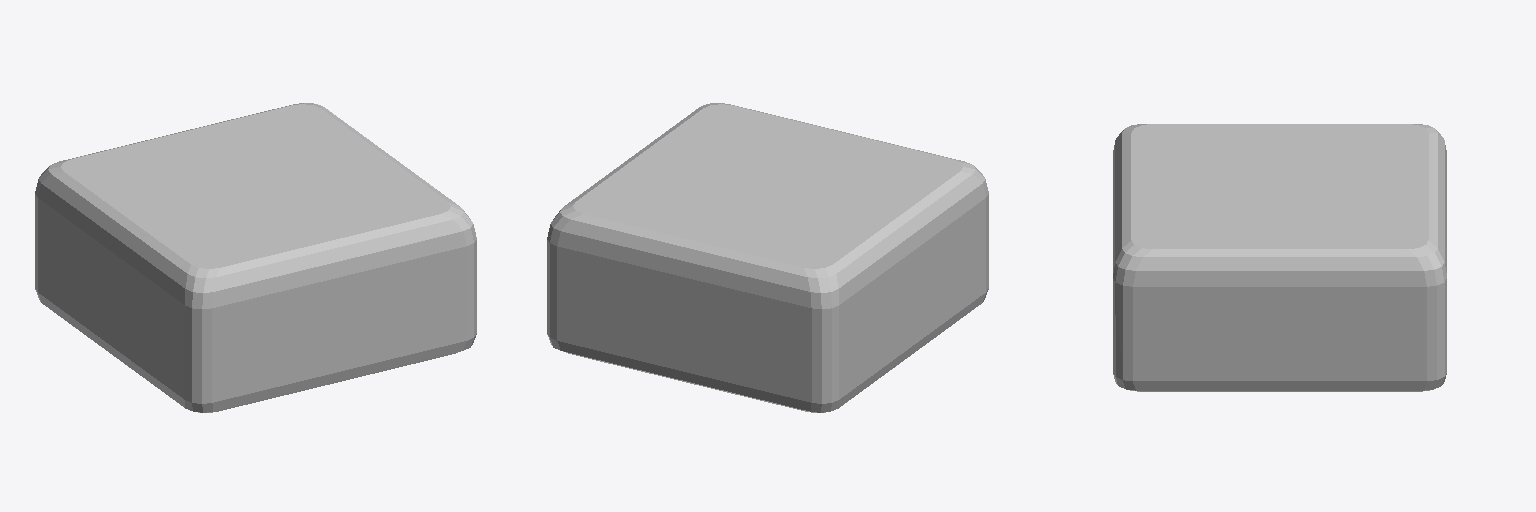
The model's file is tile_short.obj.
The picture shows the model from 3 angles: view 1: azimuth 30°, elevation 25°; view 2: azimuth 150°, elevation 25°; view 3: azimuth 270°, elevation 25°; orthographic projection.
Parts seen in each view (by area): view 1: tile_short_Cube.017; view 2: tile_short_Cube.017; view 3: tile_short_Cube.017.
Part boxes in pixels (x1,y1,x2,y2): tile_short_Cube.017: (35,103,476,412); tile_short_Cube.017: (547,103,988,412); tile_short_Cube.017: (1113,124,1446,391).
Bounding box in the file's own units: 1.03 × 0.4703 × 1.03.